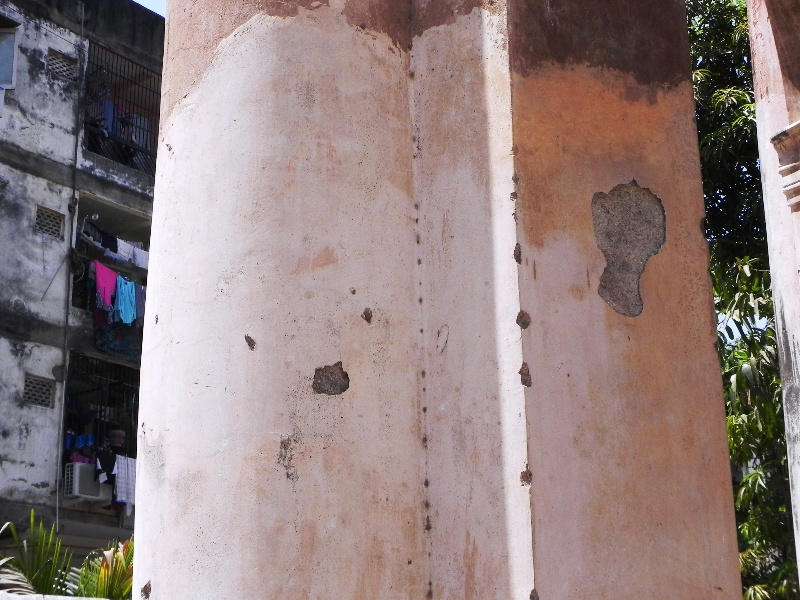Spalling: (587, 176, 669, 322), (309, 358, 356, 400), (516, 294, 538, 343), (516, 457, 542, 496), (517, 363, 543, 388), (509, 237, 527, 267), (243, 331, 263, 355), (360, 307, 376, 320)
